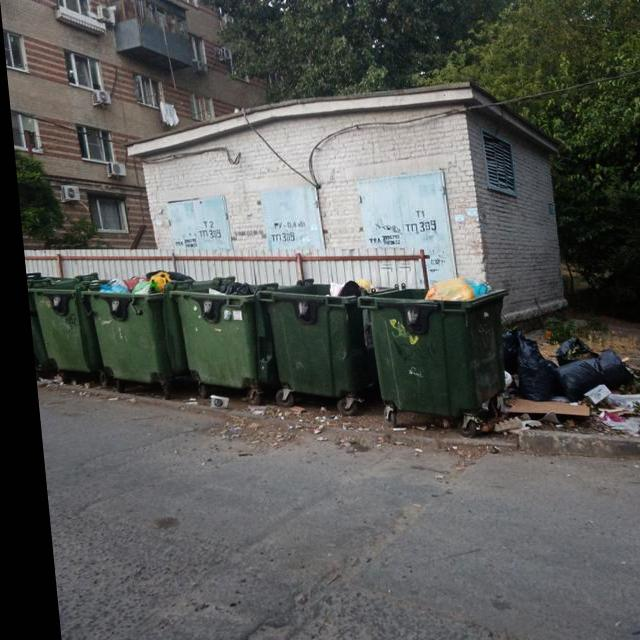Trash_Can_Empty: (21, 273, 100, 373)
Trash_Can_Full: (350, 278, 511, 419), (258, 279, 374, 400), (75, 273, 195, 385), (162, 276, 263, 384)
